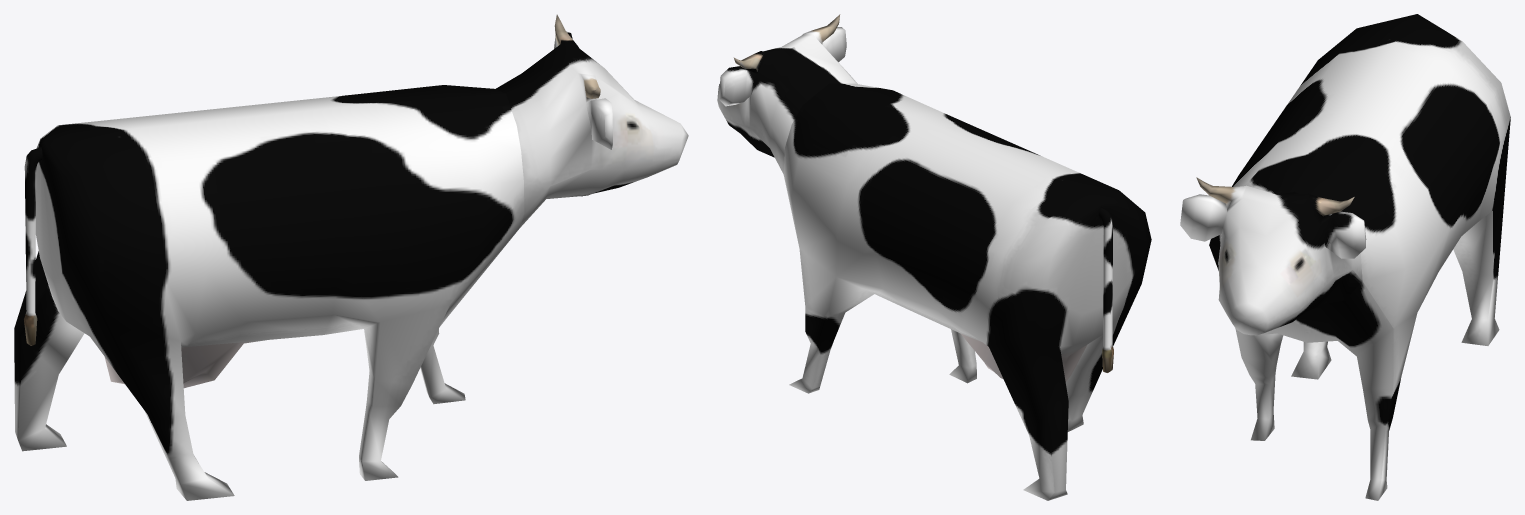
File: Cow.fbx
3 renders of one model, left to right at view 1: azimuth 30°, elevation 25°; view 2: azimuth 150°, elevation 25°; view 3: azimuth 270°, elevation 25°, orthographic. The views are drawn at different scales.
Parts seen in each view (by area): view 1: Cilindro, Cilindro_002, Cilindro_001; view 2: Cilindro, Cilindro_002, Cilindro_001; view 3: Cilindro, Cilindro_002.
Part boxes in pixels (box(x1,y1,x2,y2)): Cilindro: box(14, 85, 524, 500); Cilindro_002: box(496, 14, 688, 227); Cilindro_001: box(24, 147, 42, 345); Cilindro: box(783, 83, 1151, 500); Cilindro_002: box(717, 14, 857, 173); Cilindro_001: box(1098, 208, 1113, 372); Cilindro: box(1209, 14, 1510, 500); Cilindro_002: box(1180, 177, 1366, 335).
Size of the model in its own units: 2205 by 1368 by 1205.
1 material, 1 textured.
